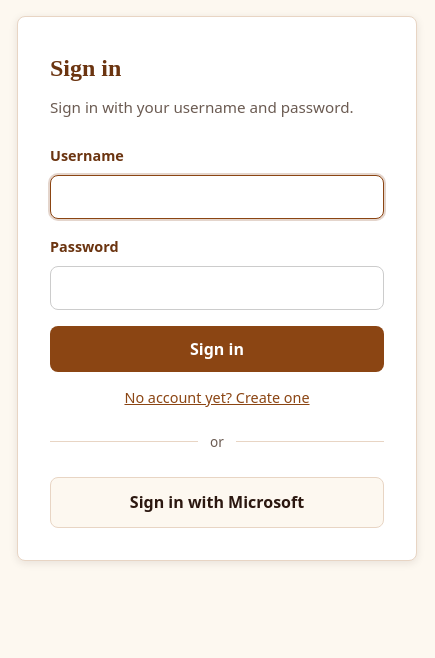
Scenario: LoginPage — sign in › explains an expired temporary password
Type "alice" into the field labelled "Username" at point(217, 197), box [50, 175, 384, 219]
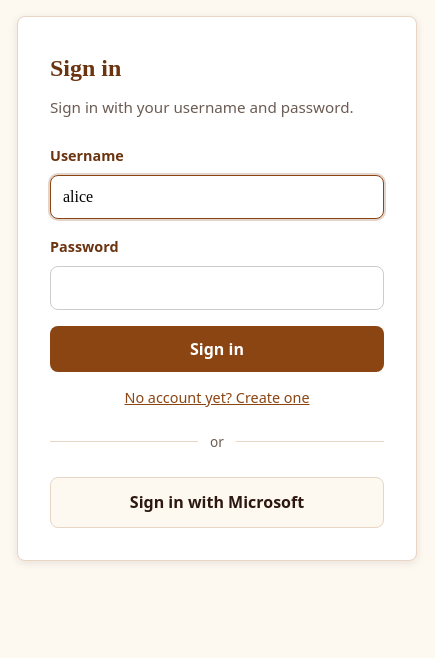
Type "Temp1234abcd" into the password field labelled "Password" at point(217, 288), box [50, 266, 384, 310]
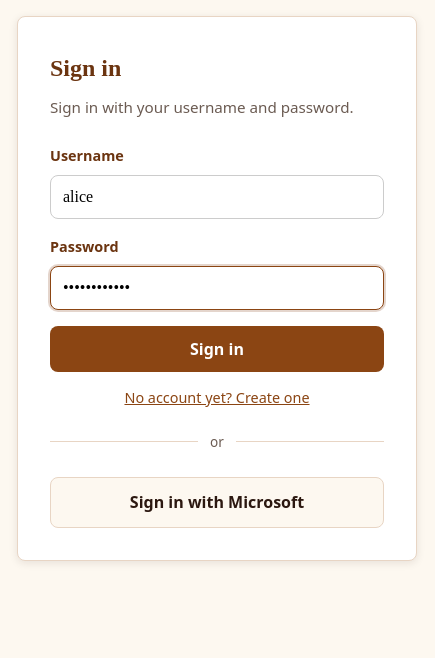
Click the button "Sign in" at point(217, 349), box [50, 326, 384, 372]
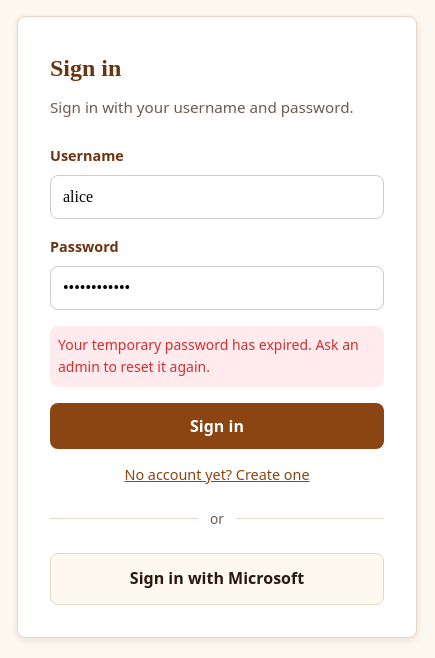
Result: the message shows "temporary password has expired" at [58, 335, 359, 376]
